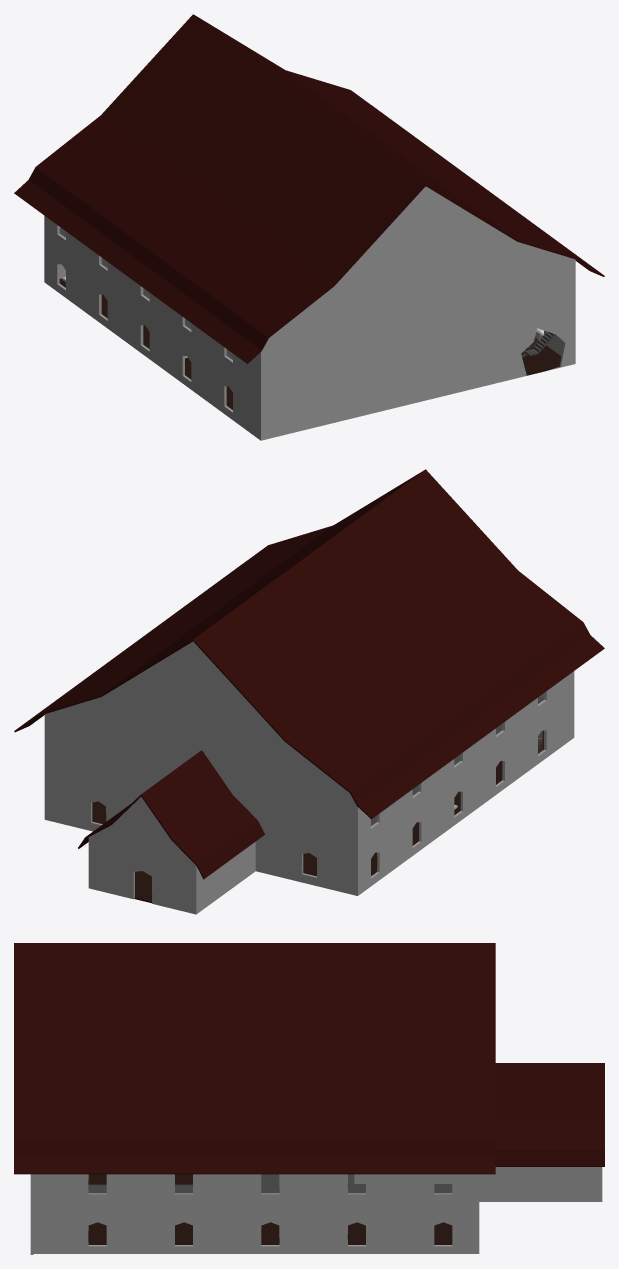
Rendered from Iglesia_-_copia.fbx.
3 views of the same model, one above another, from view 1: azimuth 30°, elevation 25°; view 2: azimuth 150°, elevation 25°; view 3: azimuth 270°, elevation 25° (orthographic). The views are drawn at different scales.
Visible parts, largest first — view 1: Techo 4, Pared, Pared 2.001, Techo 5, Piso; view 2: Techo 4, Pared 7, Pared 2.001, Techo 5, Techo 3, Pared 8, Pared 5, Piso; view 3: Techo 5, Pared 2, Techo 2, Pared 4, Piso, pisio, Techo 4.
Part boxes in pixels (x1,y1,x2,y2): Techo 4: (14, 14, 426, 363); Pared: (259, 186, 575, 440); Pared 2.001: (45, 217, 259, 439); Techo 5: (194, 15, 604, 276); Piso: (59, 278, 561, 409); Techo 4: (192, 469, 604, 818); Pared 7: (44, 641, 358, 895); Pared 2.001: (359, 672, 572, 894); Techo 5: (14, 469, 425, 732); Techo 3: (141, 751, 264, 879); Pared 8: (88, 797, 197, 914); Pared 5: (197, 842, 255, 913); Piso: (92, 730, 543, 876); Techo 5: (14, 943, 495, 1174); Pared 2: (33, 1174, 476, 1253); Techo 2: (495, 1063, 604, 1166); Pared 4: (479, 1167, 599, 1201); Piso: (88, 1174, 452, 1244); pisio: (88, 1174, 452, 1193); Techo 4: (14, 943, 495, 943).
Size of the model in its own units: 3470 by 2118 by 4785.
